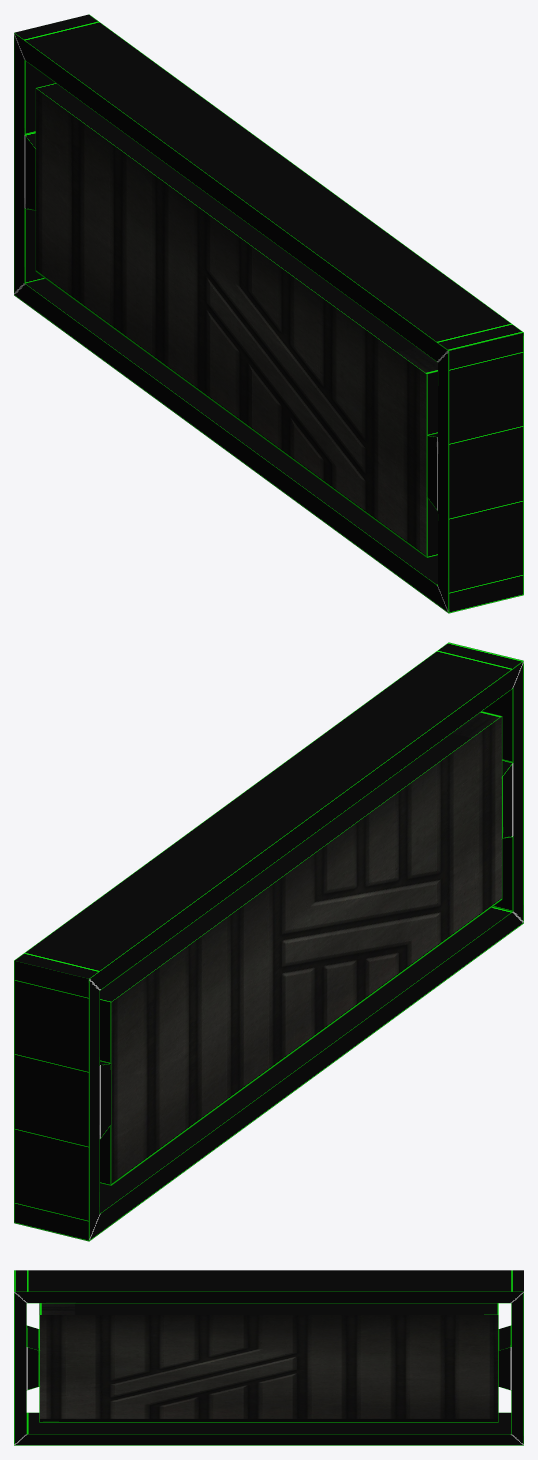
The model's file is Railing_HopefullyLooksNice.FBX.
3 views of the same model, one above another, from view 1: azimuth 30°, elevation 25°; view 2: azimuth 150°, elevation 25°; view 3: azimuth 270°, elevation 25° (orthographic). The views are drawn at different scales.
Visible parts, largest first — view 1: Box010; view 2: Box010; view 3: Box010.
Boxes of the visible parts, bbox=[...] form: Box010: bbox=[14, 14, 523, 613]; Box010: bbox=[14, 642, 523, 1241]; Box010: bbox=[14, 1270, 523, 1445].
Size of the model in its own units: 30 by 300 by 100.
1 material, 1 textured.
